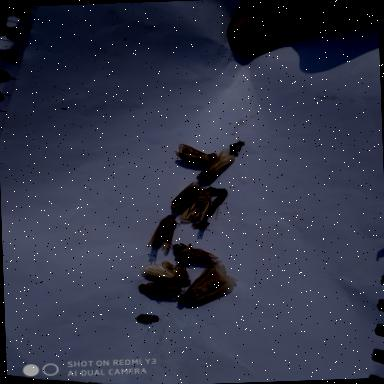abw: (194, 148, 244, 180), (144, 213, 180, 254), (139, 258, 192, 284), (170, 238, 218, 264), (182, 186, 216, 222), (134, 276, 186, 297), (175, 140, 218, 165), (166, 180, 200, 210)
